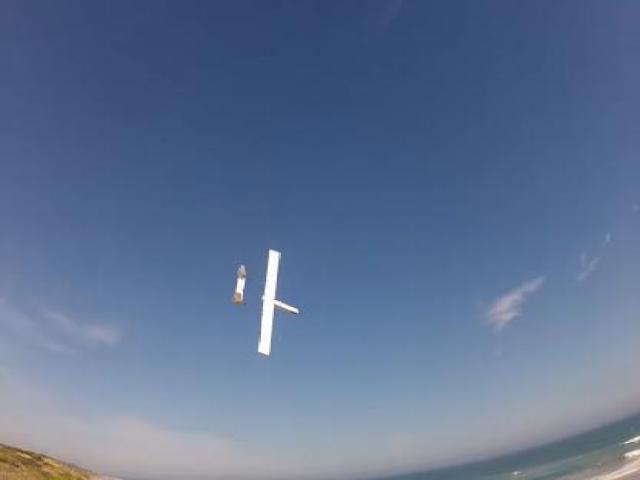uav: (227, 244, 304, 361)
